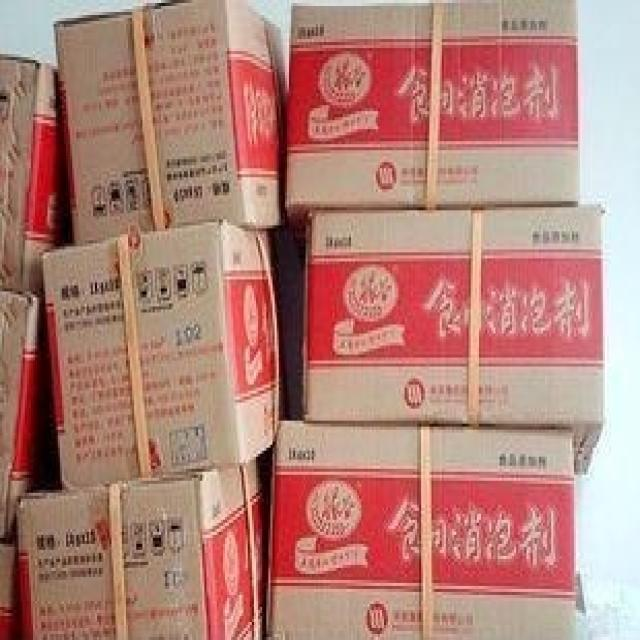box: (277, 204, 601, 475), (268, 424, 576, 640), (43, 222, 283, 490), (54, 0, 283, 246), (17, 457, 264, 640), (0, 54, 74, 294), (2, 291, 60, 544), (2, 544, 23, 637)
